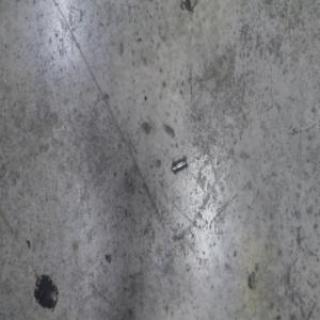Bolttrack_idkeyframe: (170, 155, 187, 176)
